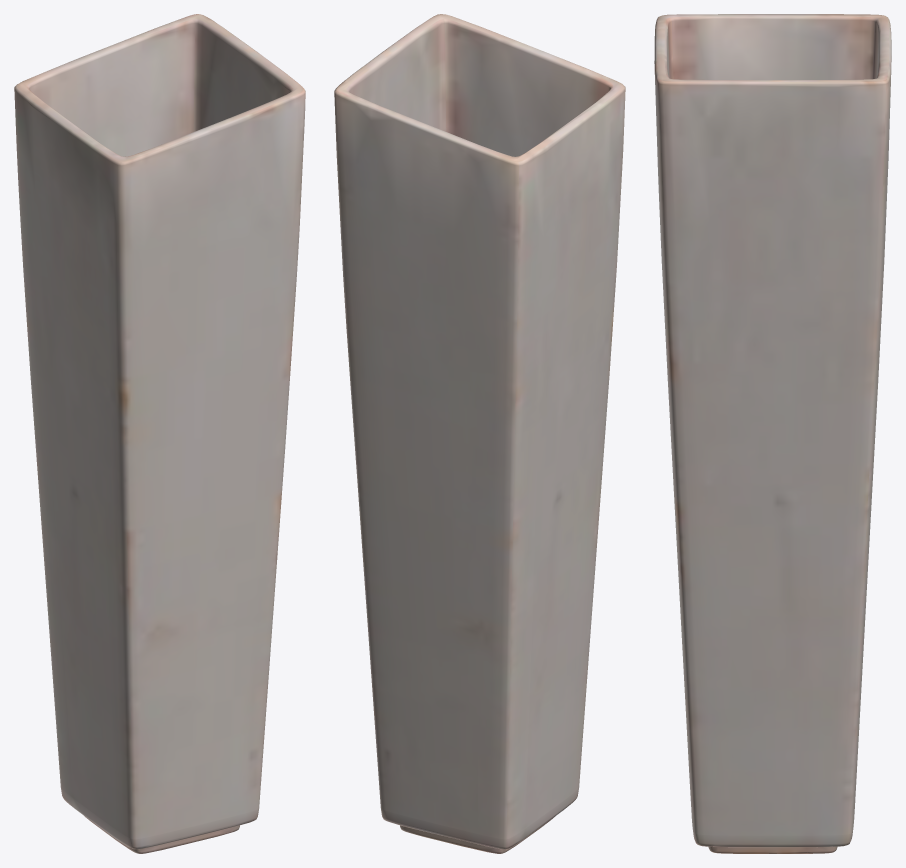
The model's file is ceramic_vase_03.glb.
3 views of the same model, side by side, from view 1: azimuth 30°, elevation 25°; view 2: azimuth 150°, elevation 25°; view 3: azimuth 270°, elevation 25° (orthographic). The views are drawn at different scales.
Visible parts, largest first — view 1: ceramic_vase_03; view 2: ceramic_vase_03; view 3: ceramic_vase_03.
Part boxes in pixels (x1,y1,x2,y2): ceramic_vase_03: [14, 14, 305, 853]; ceramic_vase_03: [334, 14, 625, 853]; ceramic_vase_03: [654, 14, 891, 853].
Bounding box in the file's own units: 0.112 × 0.4143 × 0.1121.
1 material, 1 textured.
